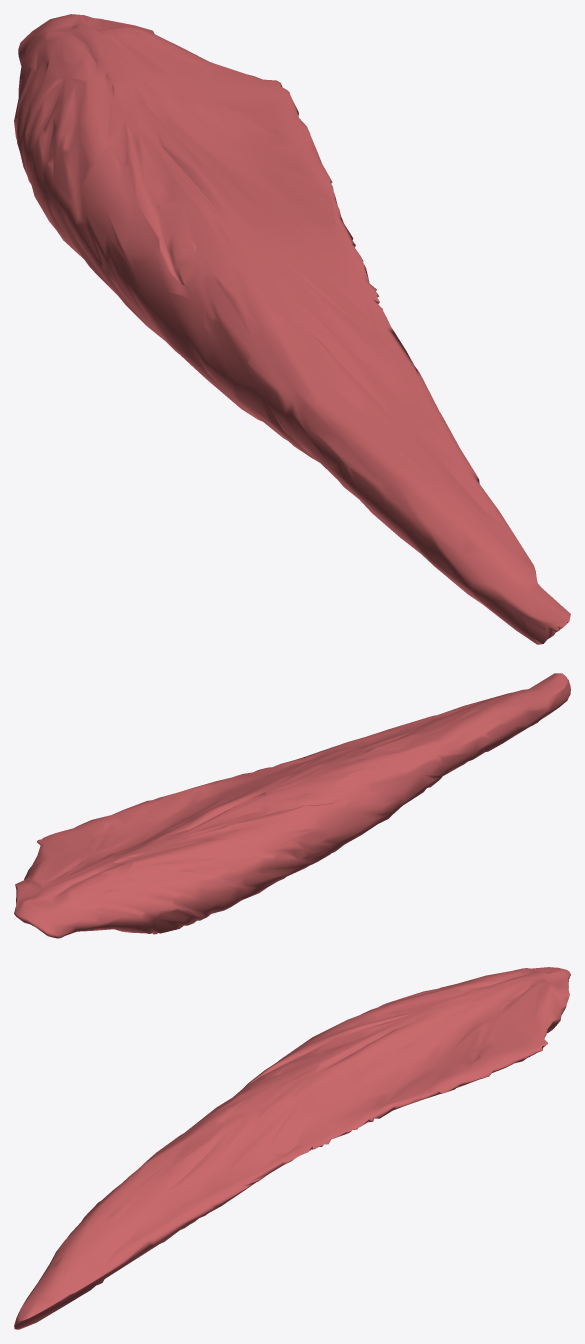
The picture shows the model from 3 angles, top to bottom: view 1: azimuth 30°, elevation 25°; view 2: azimuth 150°, elevation 25°; view 3: azimuth 330°, elevation 25°; orthographic projection. The views are drawn at different scales.
Parts seen in each view (by area): view 1: 左侧肱三头肌内侧头; view 2: 左侧肱三头肌内侧头; view 3: 左侧肱三头肌内侧头.
Boxes of the visible parts, box(x1,y1,x2,y2) form: 左侧肱三头肌内侧头: box(14, 14, 570, 644); 左侧肱三头肌内侧头: box(14, 673, 570, 938); 左侧肱三头肌内侧头: box(14, 967, 570, 1329).
Size of the model in its own units: 0.0918 by 0.0394 by 0.3453.
